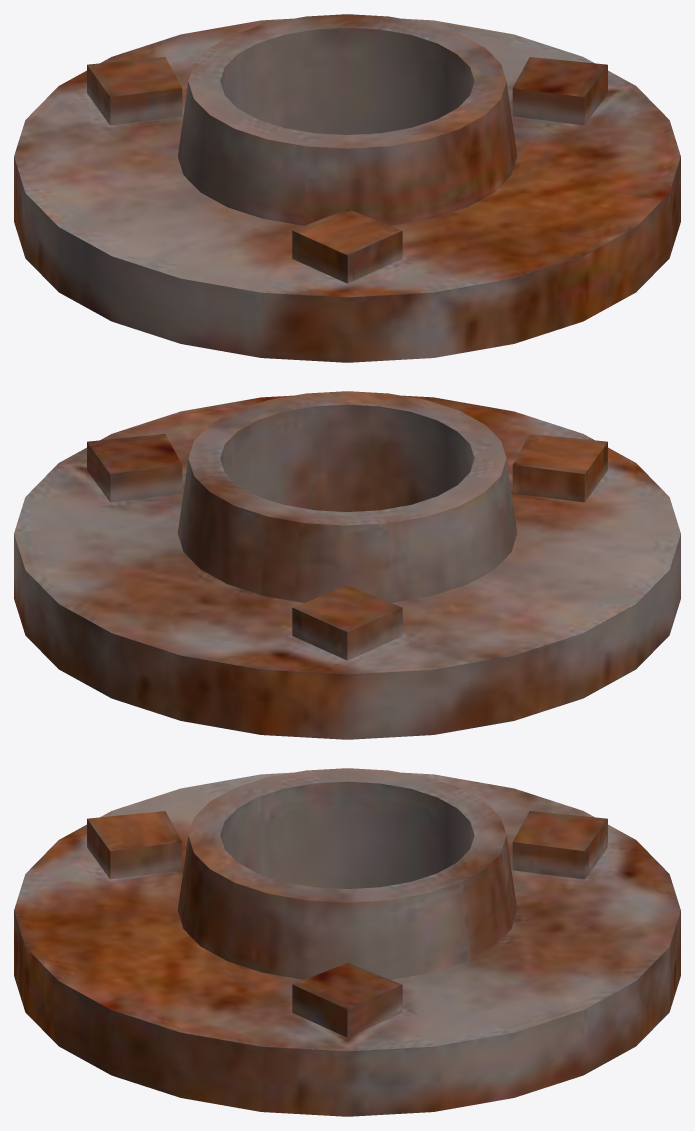
The model's file is small_steel_pipe_23.glb.
The picture shows the model from 3 angles, top to bottom: view 1: azimuth 30°, elevation 25°; view 2: azimuth 150°, elevation 25°; view 3: azimuth 270°, elevation 25°; orthographic projection.
Parts seen in each view (by area): view 1: small_steel_pipe_23; view 2: small_steel_pipe_23; view 3: small_steel_pipe_23.
Part boxes in pixels (x1,y1,x2,y2): small_steel_pipe_23: (14, 14, 680, 362); small_steel_pipe_23: (14, 391, 680, 739); small_steel_pipe_23: (14, 768, 680, 1116).
Size of what is drawn, in the model's own units: 0.0458 by 0.0106 by 0.0458.
Materials: 1 (1 with a texture image).
